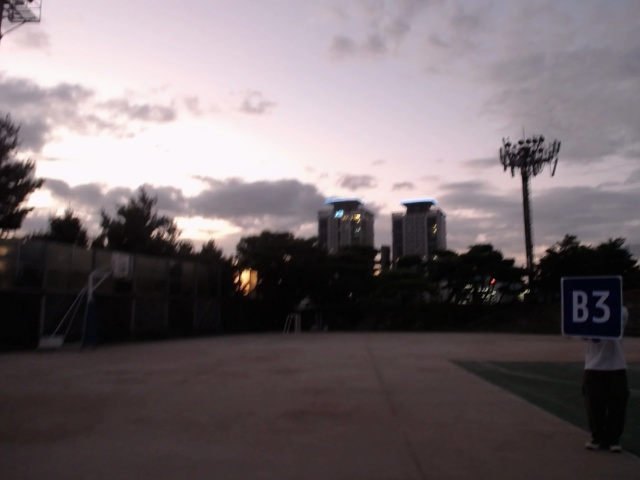delivery_b3: (561, 276, 623, 338)
